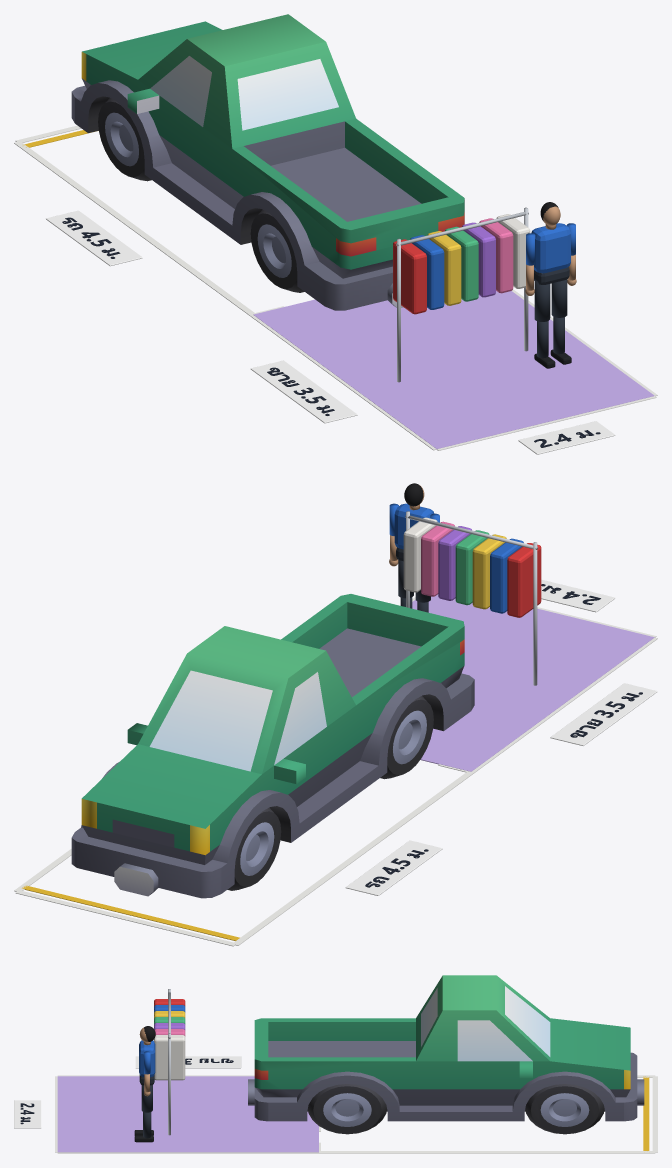
Rendered from lot-boot-1.glb.
3 views of the same model, one above another, from view 1: azimuth 30°, elevation 25°; view 2: azimuth 150°, elevation 25°; view 3: azimuth 270°, elevation 25° (orthographic). The views are drawn at different scales.
Parts seen in each view (by area): view 1: body, Cube, wheel-back-left, wheel-front-left, Cube.002, Cube.022, Cube.023, Cube.010, Cube.020, Cube.021, Cube.014, Cube.011 (+6 smaller); view 2: body, Cube, wheel-back-left, wheel-front-left, Cube.002, Cube.022, Cube.010, Cube.023, Cube.016, Cube.013, Cube.012, Cube.011 (+7 smaller); view 3: body, Cube, wheel-front-right, wheel-back-right, Cube.003, Cube.016, Cube.021, Cube.022, Cube.009, Cube.004, Cube.020, Cube.002 (+1 smaller).
Part boxes in pixels (bbox=[...]): body: bbox=[71, 14, 464, 310]; Cube: bbox=[253, 291, 654, 448]; wheel-back-left: bbox=[250, 209, 304, 292]; wheel-front-left: bbox=[98, 98, 151, 181]; Cube.002: bbox=[14, 141, 436, 450]; Cube.022: bbox=[250, 360, 357, 423]; Cube.023: bbox=[46, 210, 142, 266]; Cube.010: bbox=[393, 239, 426, 314]; Cube.020: bbox=[531, 223, 570, 273]; Cube.021: bbox=[518, 421, 615, 454]; Cube.014: bbox=[462, 222, 495, 297]; Cube.011: bbox=[410, 235, 444, 309]; body: bbox=[71, 594, 474, 898]; Cube: bbox=[412, 594, 654, 771]; wheel-back-left: bbox=[380, 696, 433, 779]; wheel-front-left: bbox=[227, 807, 281, 890]; Cube.002: bbox=[232, 637, 657, 945]; Cube.022: bbox=[550, 683, 657, 745]; Cube.010: bbox=[507, 543, 541, 617]; Cube.023: bbox=[345, 840, 442, 895]; Cube.016: bbox=[403, 517, 437, 592]; Cube.013: bbox=[455, 530, 489, 605]; Cube.012: bbox=[472, 534, 506, 609]; Cube.011: bbox=[490, 538, 523, 613]; body: bbox=[248, 975, 644, 1121]; Cube: bbox=[57, 1076, 318, 1152]; wheel-front-right: bbox=[525, 1084, 604, 1134]; wheel-back-right: bbox=[307, 1084, 386, 1134]; Cube.003: bbox=[57, 1151, 655, 1153]; Cube.016: bbox=[154, 1035, 185, 1080]; Cube.021: bbox=[14, 1100, 41, 1128]; Cube.022: bbox=[135, 1056, 241, 1068]; Cube.009: bbox=[643, 1076, 649, 1150]; Cube.004: bbox=[652, 1076, 657, 1152]; Cube.020: bbox=[139, 1040, 155, 1077]; Cube.002: bbox=[57, 1075, 655, 1077].
Bounding box in the file's own units: 3.07 × 1.8 × 8.62.
18 materials, 1 textured.
